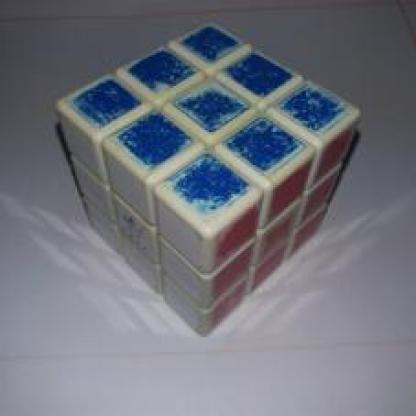cube: (67, 31, 357, 323)
